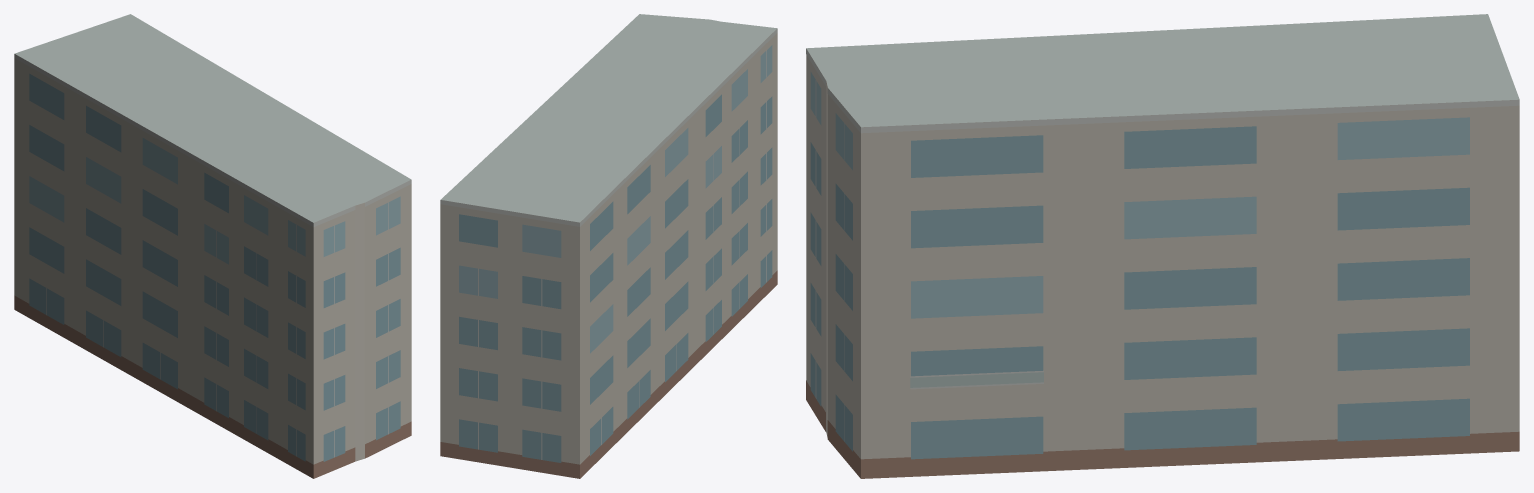
Rendered from survey-upis-32983124.glb.
3 views of the same model, side by side, from view 1: azimuth 30°, elevation 25°; view 2: azimuth 150°, elevation 25°; view 3: azimuth 270°, elevation 25° (orthographic). The views are drawn at different scales.
Parts seen in each view (by area): view 1: survey-upis-32983124.tmp; view 2: survey-upis-32983124.tmp; view 3: survey-upis-32983124.tmp.
Boxes of the visible parts, x1=… form: survey-upis-32983124.tmp: x1=14, y1=14, x2=411, y2=478; survey-upis-32983124.tmp: x1=440, y1=14, x2=777, y2=478; survey-upis-32983124.tmp: x1=806, y1=14, x2=1519, y2=478.
Size of the model in its own units: 9.88 by 14.3 by 26.31.
